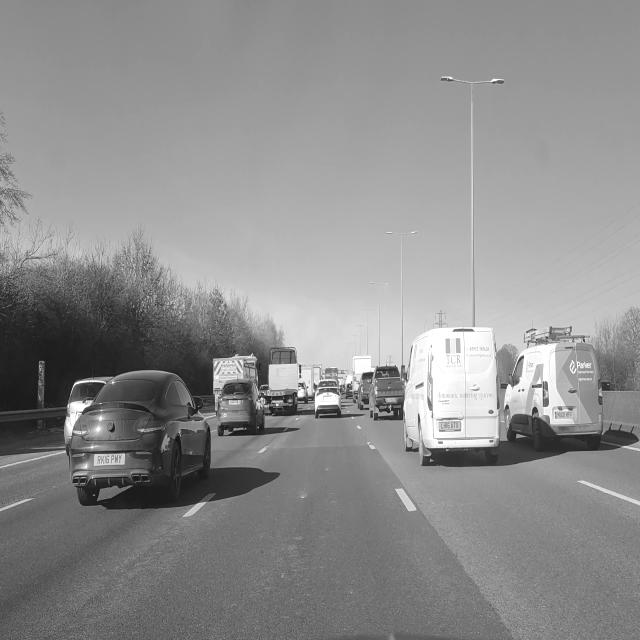car: (70, 371, 210, 505), (404, 328, 499, 465), (504, 327, 603, 450), (64, 377, 112, 455), (217, 379, 265, 435), (369, 366, 404, 420), (315, 382, 341, 418), (357, 372, 372, 410), (298, 381, 308, 403)
